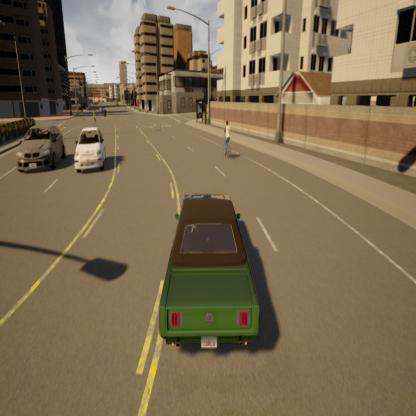Cars: (150, 186, 266, 360), (16, 122, 69, 174), (73, 126, 110, 178)
Pedestrian: (88, 107, 99, 128)
